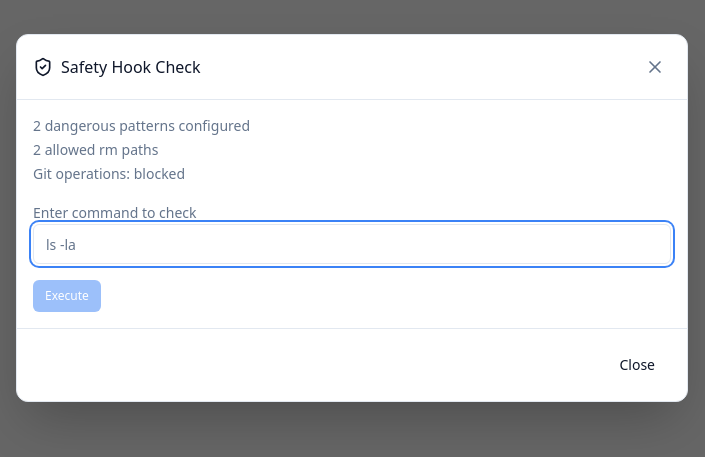
it: SafetyHookCheckDialog › shows error message when API throws
The width and height of the screenshot is (705, 457).
Type "ls" into the field with placeholder "ls -la" at (352, 244), box [33,224,671,264]
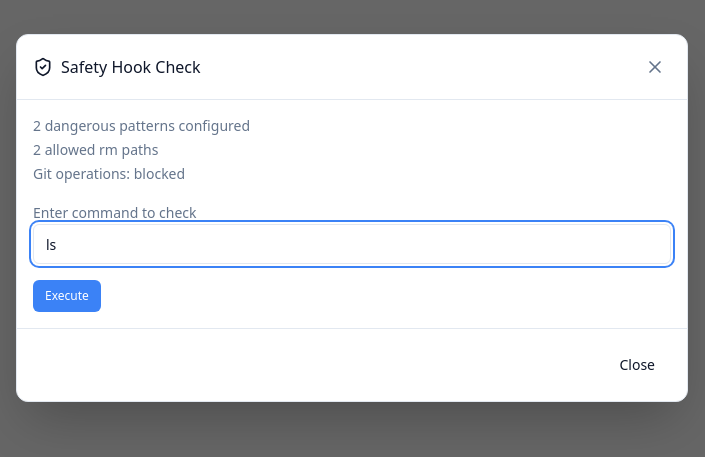
Click the button "Execute" at (67, 296), box [33,280,101,312]
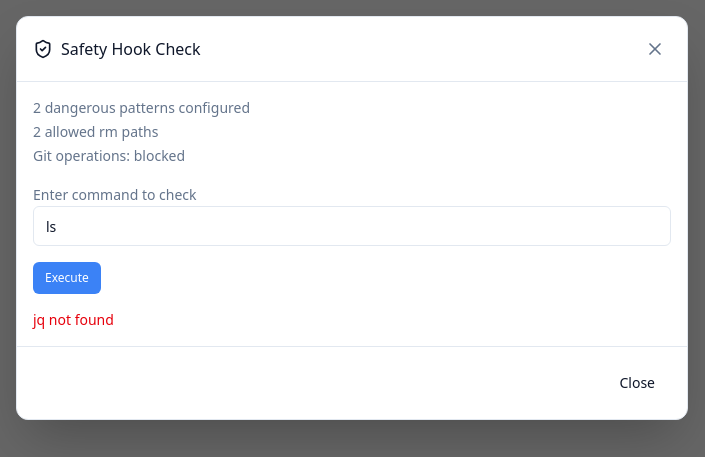
Result: the text "jq not found" is shown at [33,310,114,329]
